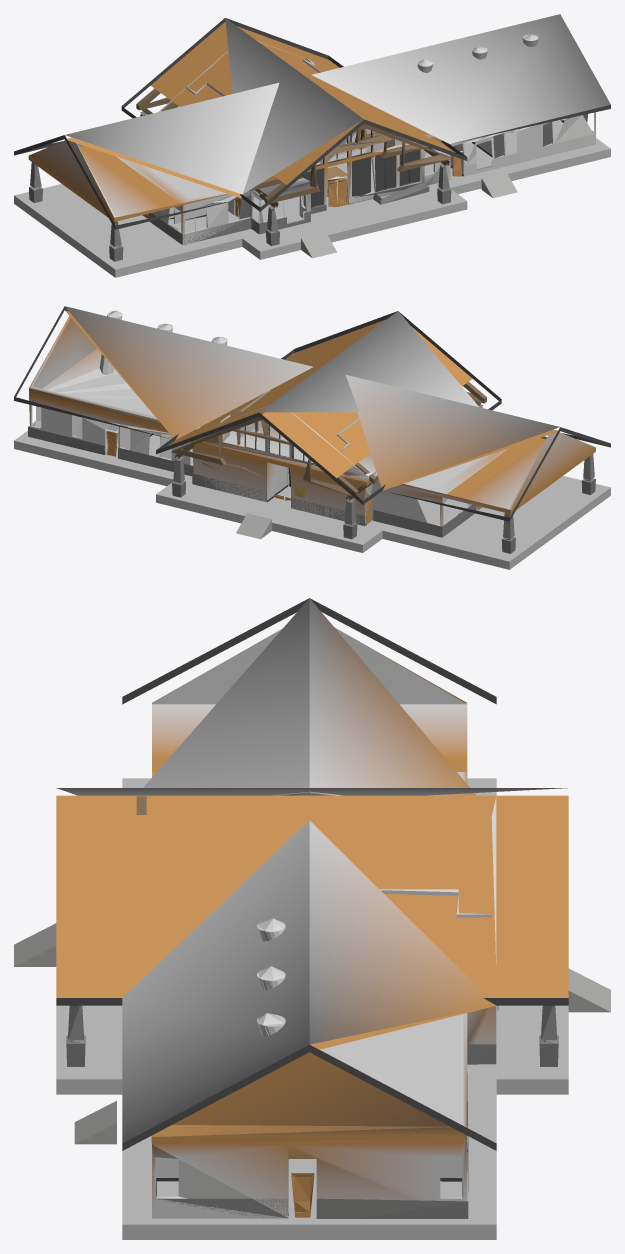
Rendered from terminal.access-v5.lod1.glb.
The picture shows the model from 3 angles, top to bottom: view 1: azimuth 30°, elevation 25°; view 2: azimuth 150°, elevation 25°; view 3: azimuth 270°, elevation 25°; orthographic projection. The views are drawn at different scales.
Parts seen in each view (by area): view 1: Mesh1_Metal_Aluminum_Anodized_0; view 2: Mesh1_Metal_Aluminum_Anodized_0; view 3: Mesh1_Metal_Aluminum_Anodized_0.
Part boxes in pixels (x1=…): Mesh1_Metal_Aluminum_Anodized_0: x1=14, y1=14, x2=610, y2=277; Mesh1_Metal_Aluminum_Anodized_0: x1=14, y1=306, x2=610, y2=569; Mesh1_Metal_Aluminum_Anodized_0: x1=14, y1=598, x2=610, y2=1239.
Bounding box in the file's own units: 40 × 8.9 × 22.6.
